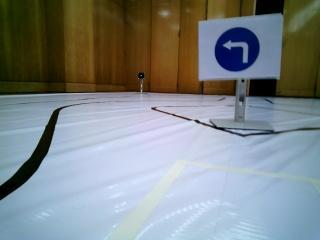left: (199, 19, 282, 83)
